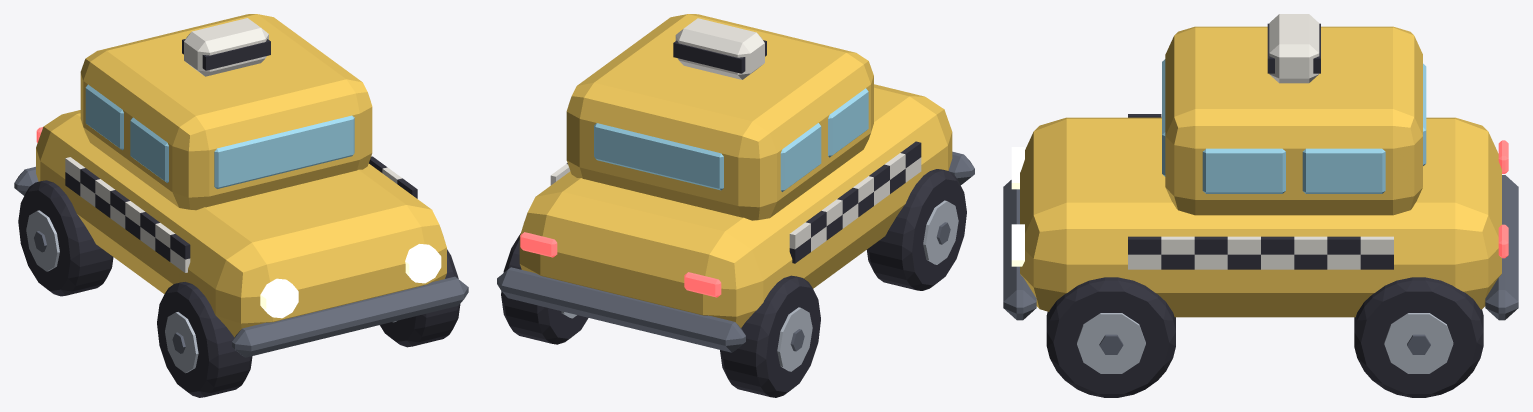
File: veh_taxi.glb
3 views of the same model, side by side, from view 1: azimuth 30°, elevation 25°; view 2: azimuth 150°, elevation 25°; view 3: azimuth 270°, elevation 25° (orthographic). The views are drawn at different scales.
Visible parts, largest first — view 1: veh_taxi, wheel_rl, wheel_fl, wheel_fr; view 2: veh_taxi, wheel_rl, wheel_fl, wheel_rr; view 3: veh_taxi, wheel_rr, wheel_fr.
Boxes of the visible parts, x1,y1,x2,y2 form: veh_taxi: (14,14,468,357); wheel_rl: (18,180,113,296); wheel_fl: (157,282,252,397); wheel_fr: (380,249,460,347); veh_taxi: (497,14,974,352); wheel_rl: (720,275,820,397); wheel_fl: (867,169,966,290); wheel_rr: (501,233,588,344); veh_taxi: (1003,14,1518,320); wheel_rr: (1354,277,1483,397); wheel_fr: (1046,277,1175,397).
Bounding box in the file's own units: 2.02 × 2.02 × 3.1.
